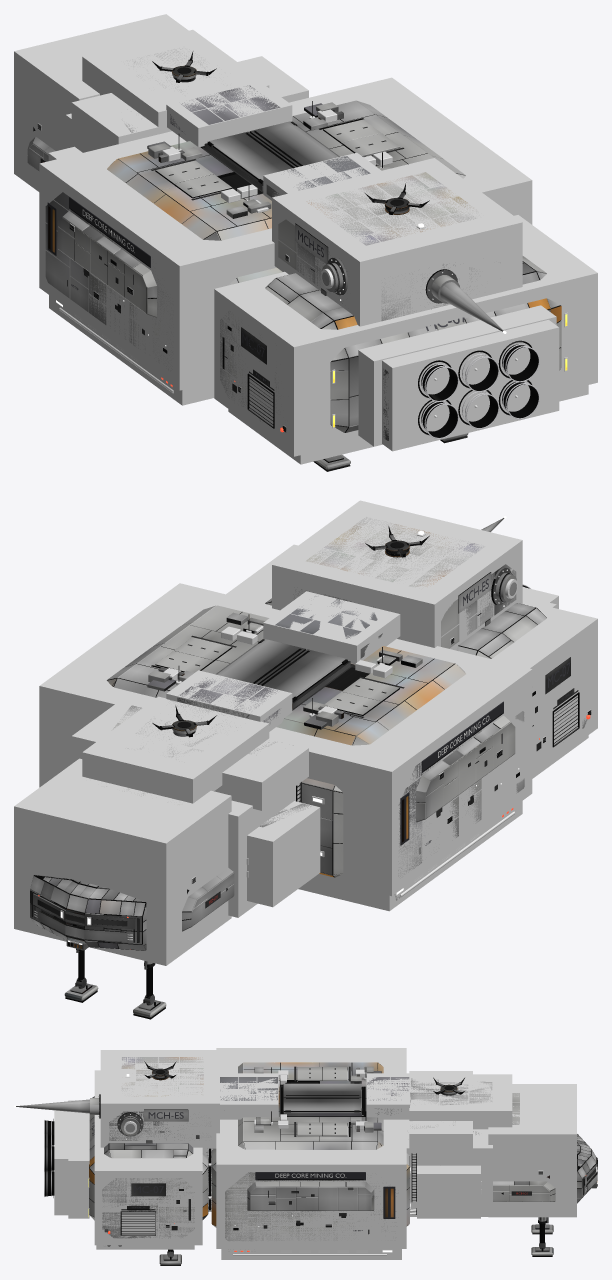
3 views of the same model, one above another, from view 1: azimuth 30°, elevation 25°; view 2: azimuth 150°, elevation 25°; view 3: azimuth 270°, elevation 25° (orthographic). The views are drawn at different scales.
Visible parts, largest first — view 1: COL_body, COL_PodArmor, COL_RearModule, COL_EngineCowl, Hull_Main, COL_Cockpit, COL_SpineFwd, Hull_RearModule, Hull_RearPod, COL_EngineBlock, COL_Shoulder, Hull_MainArmorTier (+26 smaller); view 2: COL_body, COL_Cockpit, COL_RearModule, Hull_Main, COL_SpineFwd, COL_PodArmor, Hull_RearModule, COL_Cheek_L, COL_Shoulder, COL_SpineMidB, Hull_NoseCap, Hull_MainArmorTier (+20 smaller); view 3: COL_body, COL_RearModule, COL_PodArmor, COL_Cockpit, Hull_Main, COL_SpineFwd, Hull_MainArmorTier, COL_Cheek_R, Hull_MainArmor, COL_Neck, Hull_RearPod, COL_SpineMidB (+34 smaller).
Part boxes in pixels (x1=…): COL_body: x1=39, y1=77, x2=532, y2=390; COL_PodArmor: x1=214, y1=215, x2=597, y2=456; COL_RearModule: x1=272, y1=158, x2=522, y2=326; COL_EngineCowl: x1=382, y1=320, x2=559, y2=451; Hull_Main: x1=107, y1=100, x2=465, y2=285; COL_Cockpit: x1=14, y1=14, x2=188, y2=191; COL_SpineFwd: x1=82, y1=29, x2=269, y2=126; Hull_RearModule: x1=278, y1=172, x2=500, y2=321; Hull_RearPod: x1=265, y1=256, x2=561, y2=432; COL_EngineBlock: x1=358, y1=305, x2=556, y2=446; COL_Shoulder: x1=71, y1=56, x2=308, y2=149; Hull_MainArmorTier: x1=57, y1=210, x2=156, y2=317; COL_body: x1=39, y1=583, x2=532, y2=896; COL_Cockpit: x1=14, y1=758, x2=231, y2=965; COL_RearModule: x1=272, y1=500, x2=522, y2=650; Hull_Main: x1=107, y1=605, x2=465, y2=877; COL_SpineFwd: x1=82, y1=696, x2=269, y2=803; COL_PodArmor: x1=226, y1=544, x2=597, y2=775; Hull_RearModule: x1=293, y1=517, x2=516, y2=648; COL_Cheek_L: x1=247, y1=801, x2=320, y2=907; COL_Shoulder: x1=71, y1=701, x2=308, y2=810; COL_SpineMidB: x1=263, y1=591, x2=400, y2=663; Hull_NoseCap: x1=30, y1=874, x2=146, y2=950; Hull_MainArmorTier: x1=416, y1=715, x2=515, y2=822; COL_body: x1=216, y1=1048, x2=406, y2=1248; COL_RearModule: x1=100, y1=1050, x2=219, y2=1148; COL_PodArmor: x1=94, y1=1070, x2=202, y2=1245; COL_Cockpit: x1=488, y1=1084, x2=576, y2=1217; Hull_Main: x1=211, y1=1062, x2=409, y2=1227; COL_SpineFwd: x1=409, y1=1074, x2=512, y2=1129; Hull_MainArmorTier: x1=247, y1=1181, x2=374, y2=1210; COL_Cheek_R: x1=417, y1=1165, x2=480, y2=1218; Hull_MainArmor: x1=225, y1=1172, x2=395, y2=1241; COL_Neck: x1=406, y1=1119, x2=492, y2=1216; Hull_RearPod: x1=89, y1=1096, x2=208, y2=1220; COL_SpineMidB: x1=220, y1=1073, x2=278, y2=1119.
Size of the model in its own units: 36.78 by 24.43 by 73.85.
18 materials, 1 textured.
